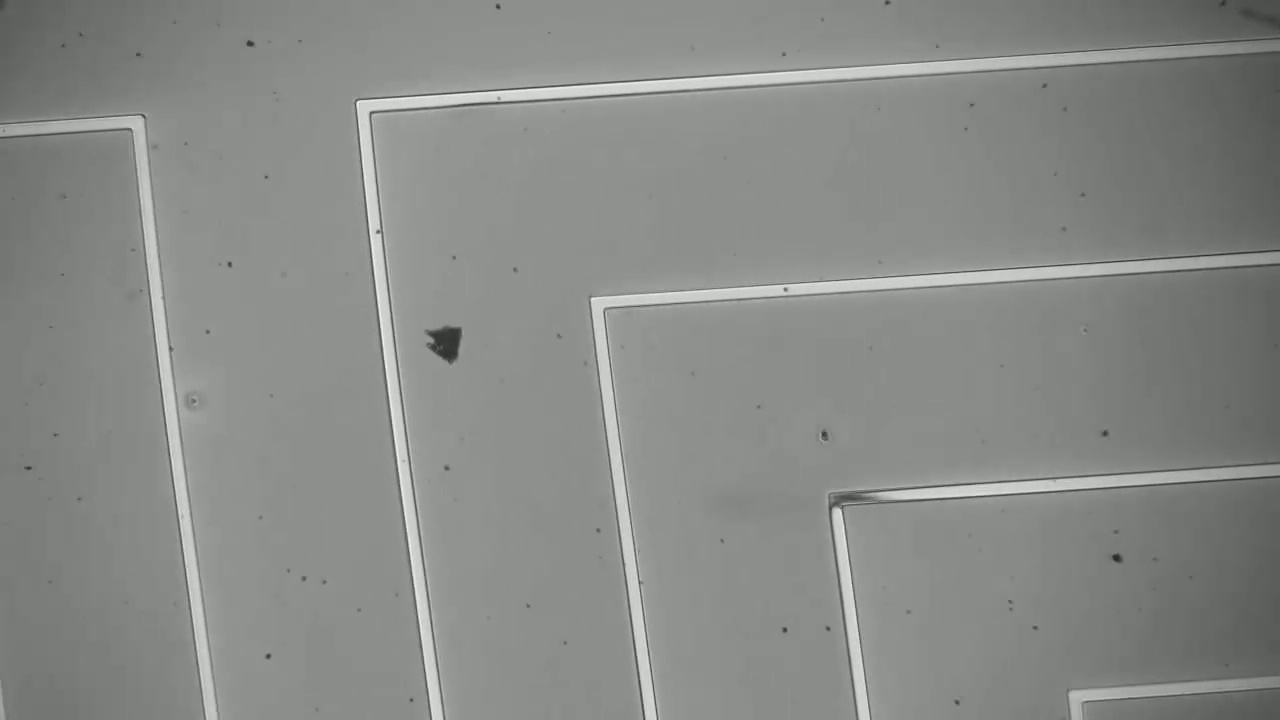gray_line: (817, 479, 897, 517)
